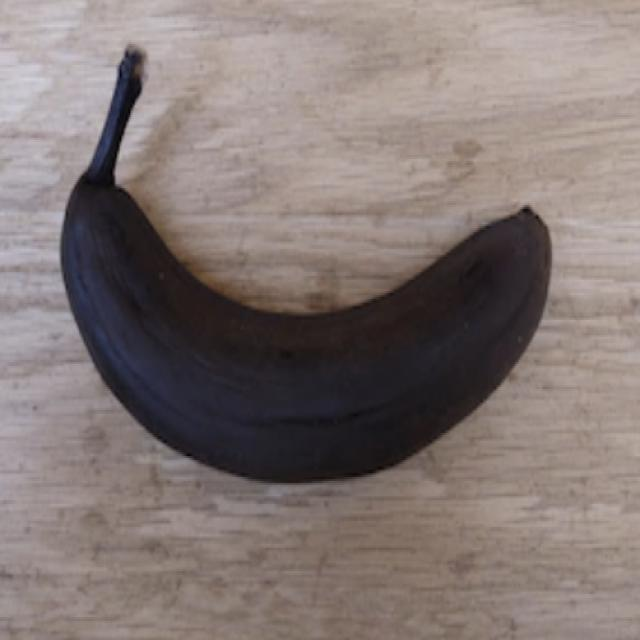Rotten: (41, 39, 573, 508)
